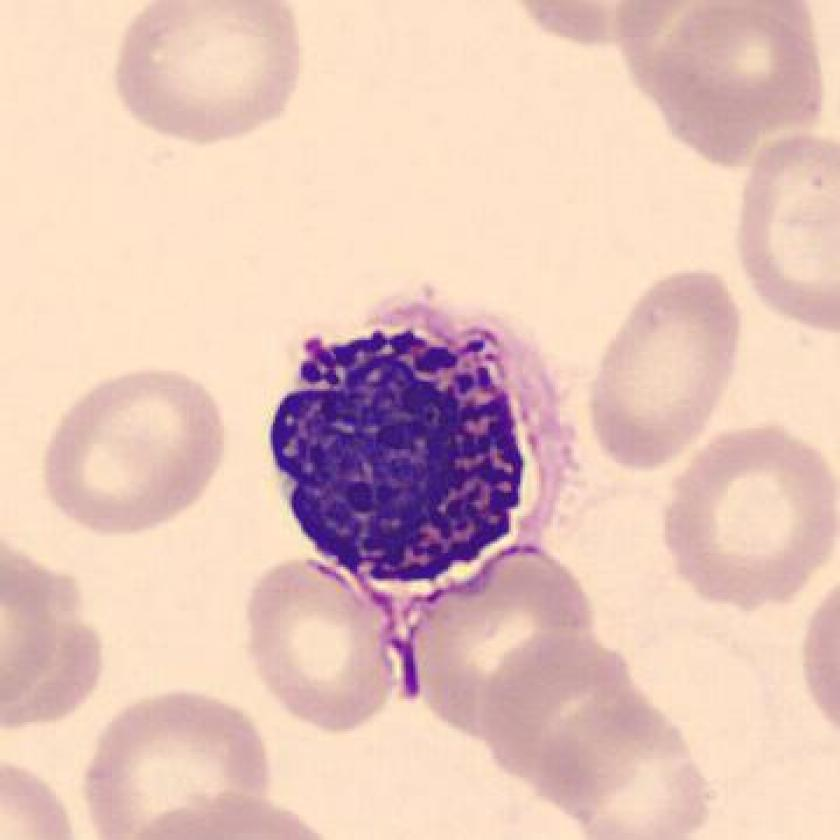basophil: (258, 299, 542, 582)
